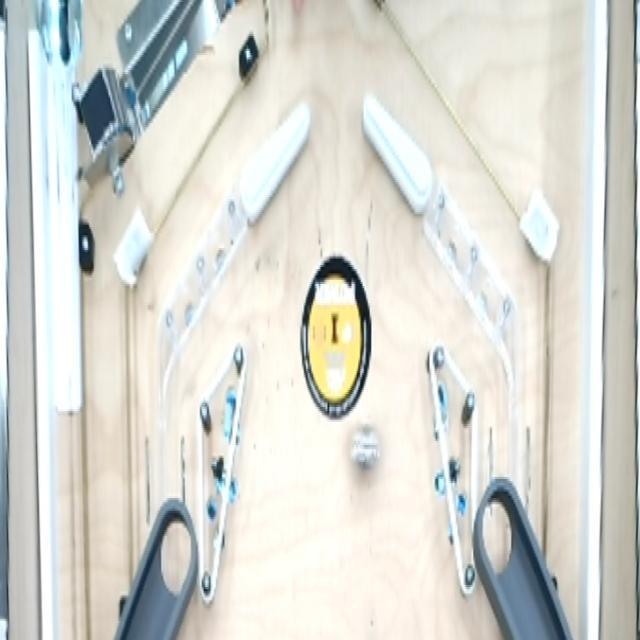ball: (340, 413, 387, 496)
flipper-left: (360, 87, 440, 219)
flipper-right: (238, 92, 313, 226)
